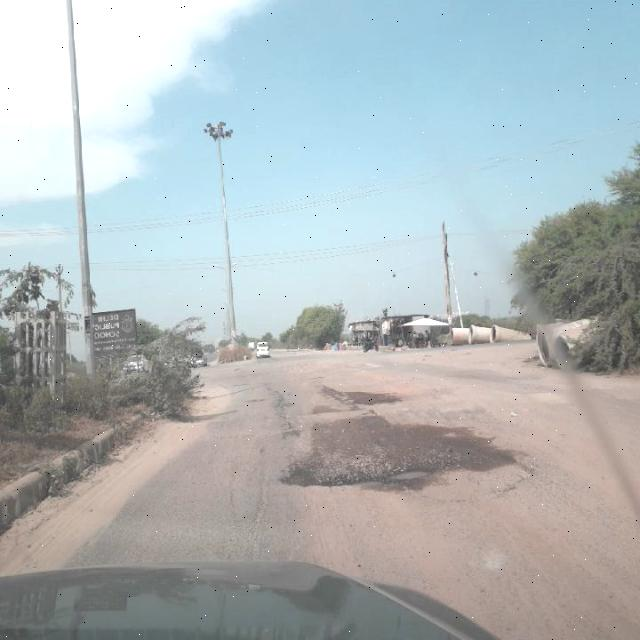D40: (276, 382, 530, 496)
